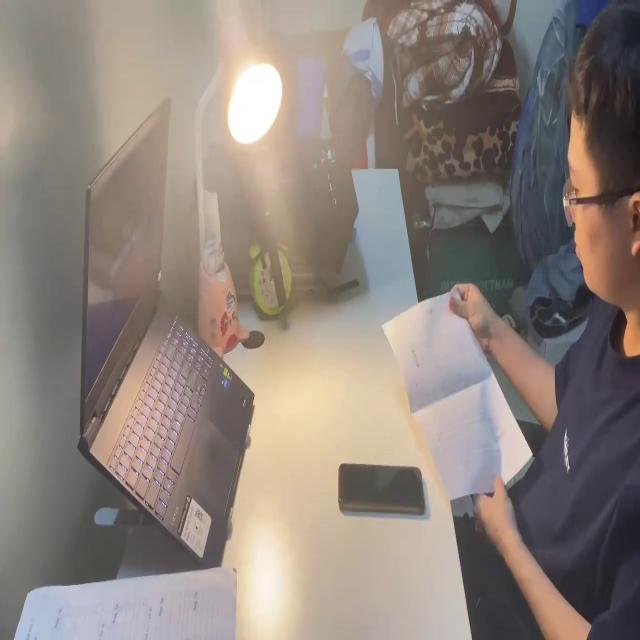book: (381, 284, 535, 510), (5, 566, 238, 640)
laptop: (74, 88, 255, 566)
phone: (338, 459, 427, 520)
student: (454, 0, 640, 640)
